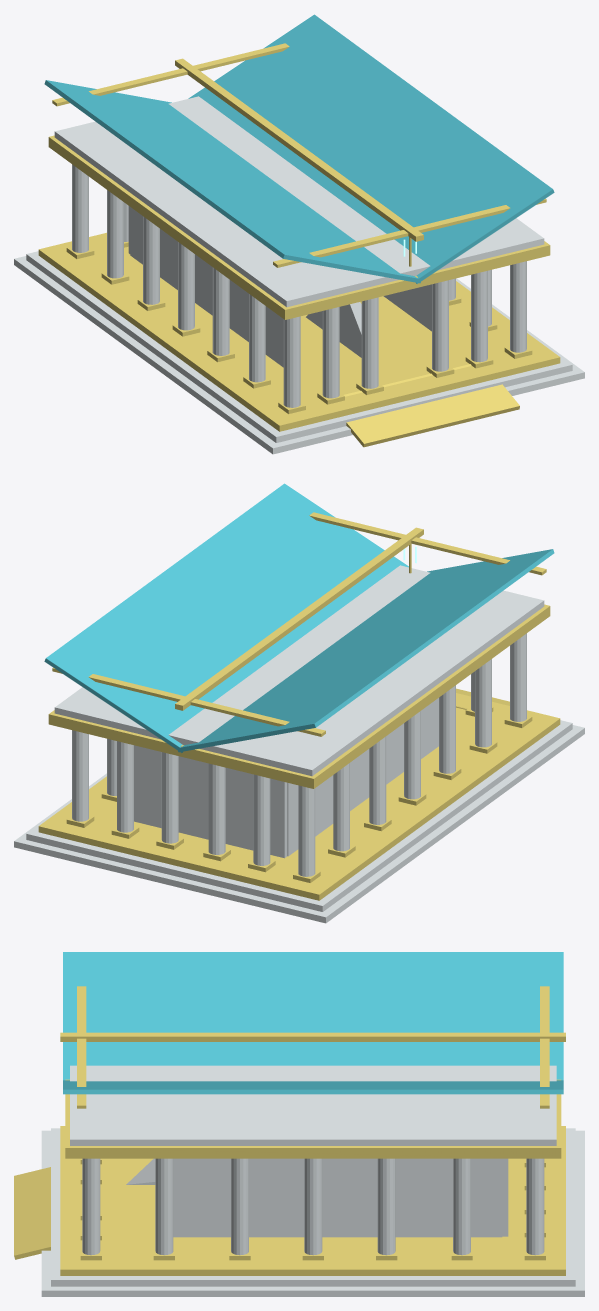
The model's file is temple_poseidon.glb.
The picture shows the model from 3 angles, top to bottom: view 1: azimuth 30°, elevation 25°; view 2: azimuth 150°, elevation 25°; view 3: azimuth 270°, elevation 25°; orthographic projection. The views are drawn at different scales.
Visible parts, largest first — view 1: Temple_Poseidon; view 2: Temple_Poseidon; view 3: Temple_Poseidon.
Boxes of the visible parts, bbox=[...] form: Temple_Poseidon: bbox=[14, 14, 584, 454]; Temple_Poseidon: bbox=[14, 483, 584, 923]; Temple_Poseidon: bbox=[14, 952, 584, 1296].
Bounding box in the file's own units: 16 × 9.3 × 24.17.
